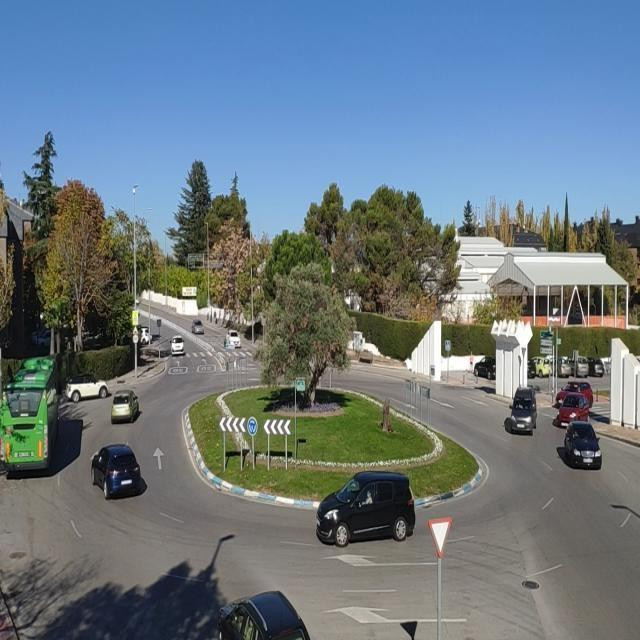Bus: (0, 353, 62, 475)
Car: (313, 471, 415, 543), (92, 442, 143, 498), (564, 420, 602, 469), (509, 387, 537, 433), (109, 388, 139, 423), (170, 334, 187, 356), (225, 329, 242, 350)
